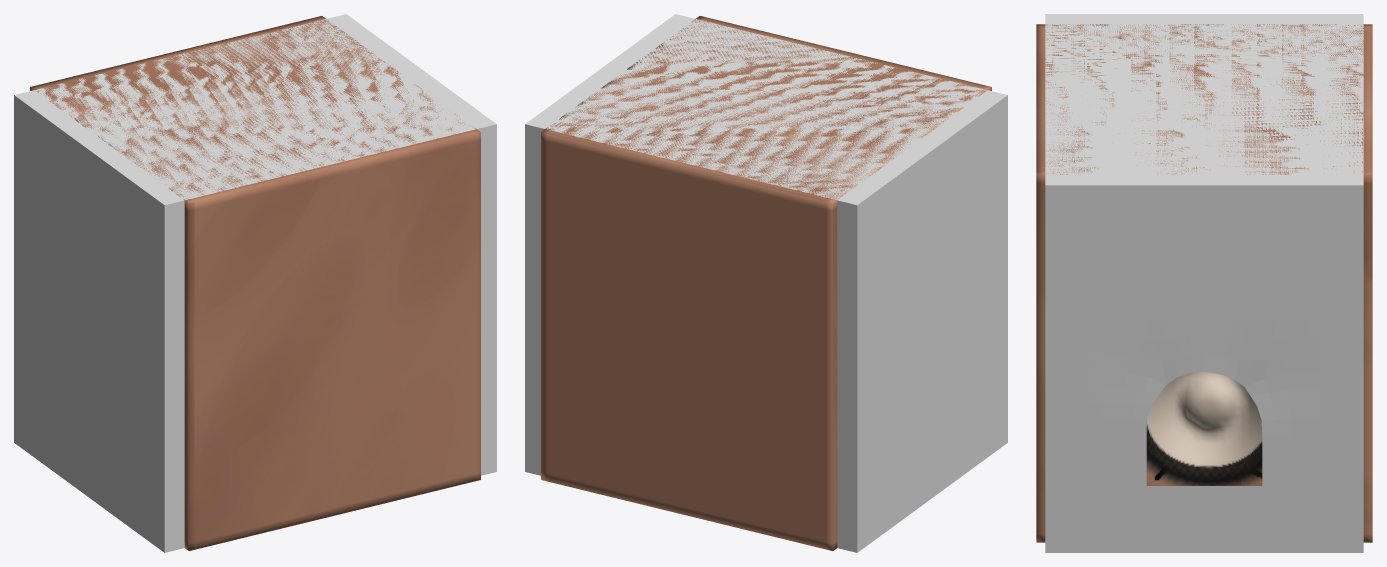
File: ShortSpeaker.fbx
The picture shows the model from 3 angles, left to right: view 1: azimuth 30°, elevation 25°; view 2: azimuth 150°, elevation 25°; view 3: azimuth 270°, elevation 25°; orthographic projection. The views are drawn at different scales.
Visible parts, largest first — view 1: Cube.001, Cube; view 2: Cube.001, Cube; view 3: Cube, Cube.001.
Boxes of the visible parts, box(x1,y1,x2,y2) form: Cube.001: box(30, 16, 480, 550); Cube: box(14, 14, 496, 552); Cube.001: box(541, 16, 991, 550); Cube: box(525, 14, 1007, 552); Cube: box(1045, 14, 1363, 552); Cube.001: box(1036, 24, 1372, 542).
Bounding box in the file's own units: 200 × 200 × 166.
Materials: 2 (1 with a texture image).
